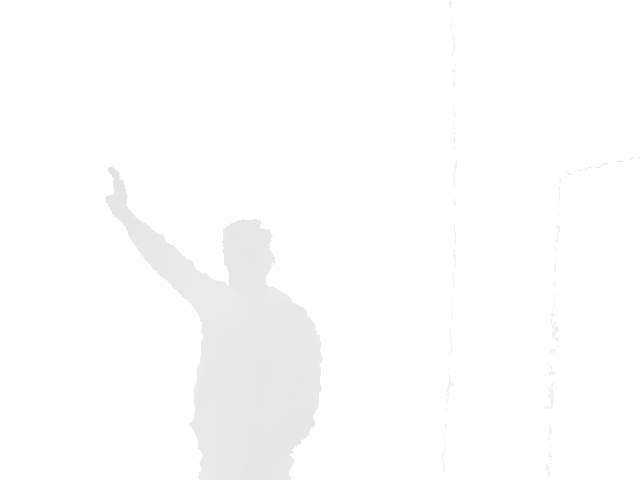hand: (104, 164, 140, 219)
head: (221, 218, 275, 293)
person: (105, 165, 325, 480)
